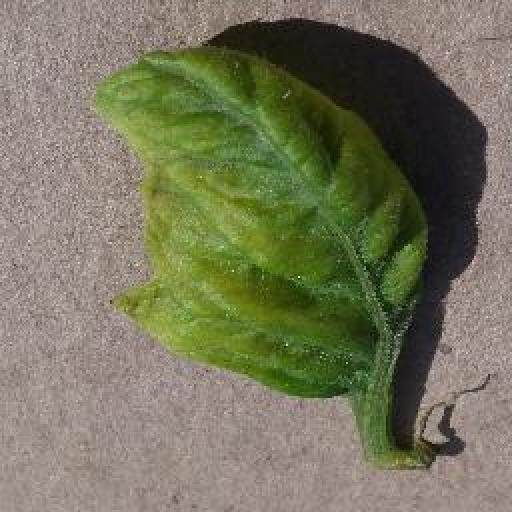disease_tomato: (87, 44, 432, 400)
